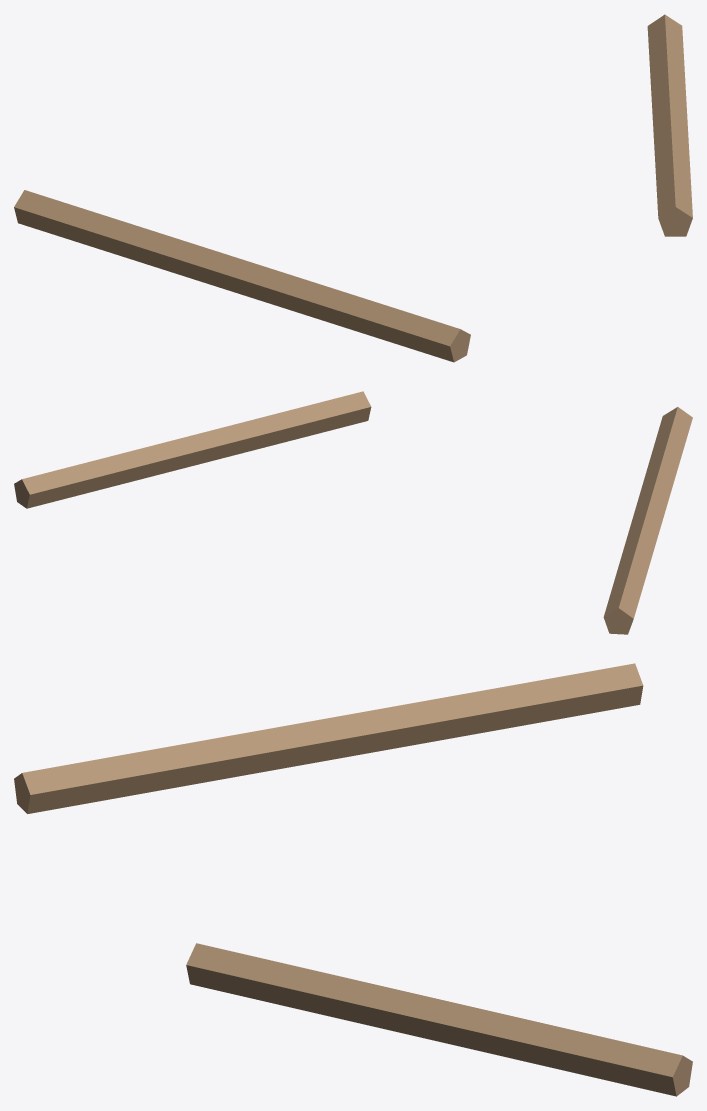
Rendered from twig_scatter.glb.
3 views of the same model, one above another, from view 1: azimuth 30°, elevation 25°; view 2: azimuth 150°, elevation 25°; view 3: azimuth 270°, elevation 25° (orthographic). The views are drawn at different scales.
Visible parts, largest first — view 1: t1, t2; view 2: t2, t1; view 3: t1, t2.
Part boxes in pixels (box(x1,y1,x2,y2)): t1: box(14, 190, 470, 362); t2: box(647, 14, 692, 236); t2: box(14, 391, 371, 508); t1: box(603, 407, 692, 634); t1: box(14, 663, 643, 813); t2: box(186, 943, 692, 1096).
Size of the model in its own units: 0.871 by 0.0361 by 0.6123.
